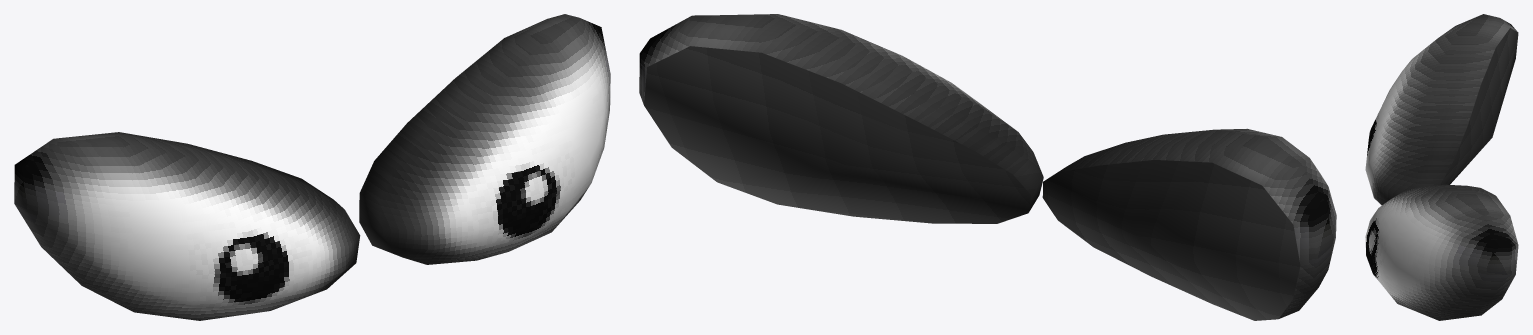
Rendered from m_e_jojo.FBX.
3 views of the same model, side by side, from view 1: azimuth 30°, elevation 25°; view 2: azimuth 150°, elevation 25°; view 3: azimuth 270°, elevation 25° (orthographic). The views are drawn at different scales.
Visible parts, largest first — view 1: eye_jojo; view 2: eye_jojo; view 3: eye_jojo.
Boxes of the visible parts, bbox=[...] form: eye_jojo: bbox=[14, 14, 610, 320]; eye_jojo: bbox=[639, 14, 1336, 320]; eye_jojo: bbox=[1365, 14, 1518, 320].
Bounding box in the file's own units: 5.86 × 1.63 × 1.69.
